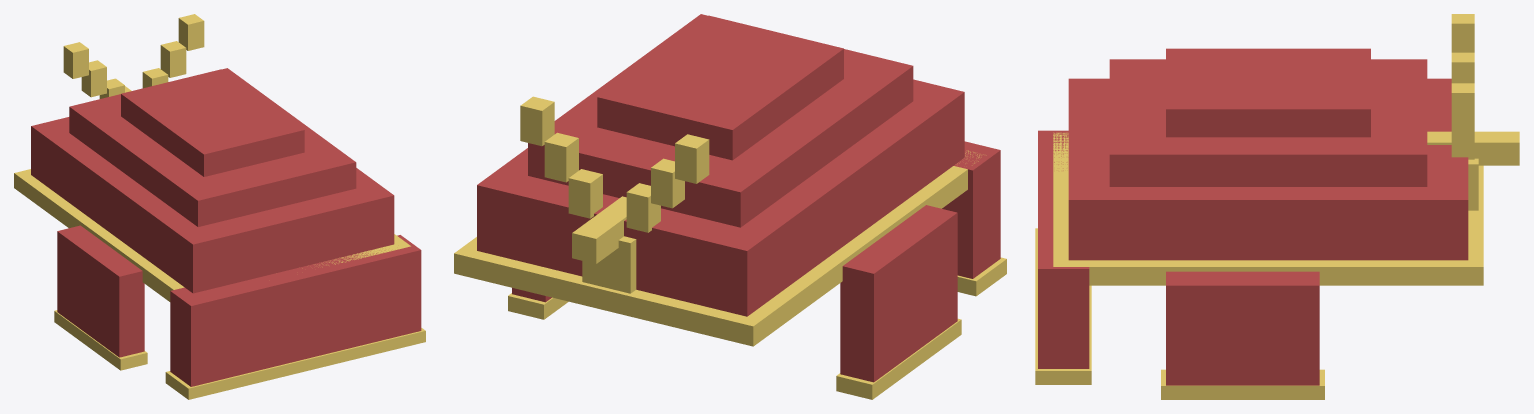
Rendered from kabuto_samurai.glb.
The picture shows the model from 3 angles, left to right: view 1: azimuth 30°, elevation 25°; view 2: azimuth 150°, elevation 25°; view 3: azimuth 270°, elevation 25°; orthographic projection. The views are drawn at different scales.
Visible parts, largest first — view 1: kabuto_samurai; view 2: kabuto_samurai; view 3: kabuto_samurai.
Part boxes in pixels (x1=…): kabuto_samurai: x1=14, y1=14, x2=425, y2=399; kabuto_samurai: x1=454, y1=14, x2=1006, y2=399; kabuto_samurai: x1=1035, y1=14, x2=1519, y2=399.
Size of the model in its own units: 0.755 by 0.57 by 0.945.
